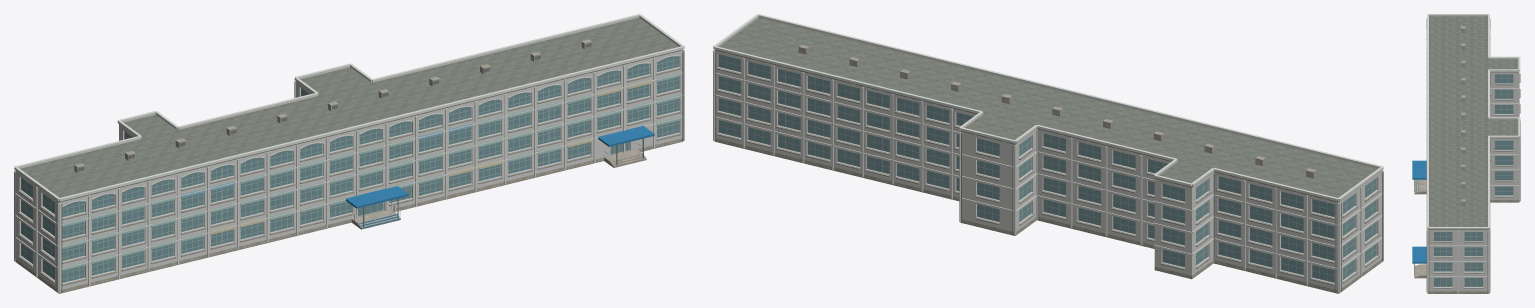
3 renders of one model, left to right at view 1: azimuth 30°, elevation 25°; view 2: azimuth 150°, elevation 25°; view 3: azimuth 270°, elevation 25°, orthographic. The views are drawn at different scales.
Parts seen in each view (by area): view 1: main__roof, main__wall, main__glass, main__trim, main__frame, main__sill, main__mint, main__stone, main__blue, main__sideglass, main__steel, main__cream; view 2: main__wall, main__roof, main__sideglass, main__trim, main__frame, main__sill, main__stone, main__steel; view 3: main__roof, main__wall, main__sideglass, main__trim, main__frame, main__sill, main__stone, main__blue, main__steel, main__stair-front, main__threshold-front, main__stair-east (+1 smaller).
Boxes of the visible parts, x1,y1,x2,y2 form: main__roof: (16,17,682,202); main__wall: (15,50,682,289); main__glass: (62,56,679,282); main__trim: (14,14,684,293); main__frame: (21,56,679,283); main__sill: (18,68,681,285); main__mint: (62,72,680,270); main__stone: (15,39,683,293); main__blue: (345,126,654,228); main__sideglass: (21,88,309,279); main__steel: (14,43,683,291); main__cream: (210,80,651,234); main__wall: (715,50,1382,289); main__roof: (715,17,1381,202); main__sideglass: (718,54,1376,282); main__trim: (713,14,1383,293); main__frame: (718,54,1376,282); main__sill: (716,68,1379,285); main__stone: (714,44,1382,293); main__steel: (714,50,1383,291); main__roof: (1428,16,1518,229); main__wall: (1428,72,1519,291); main__sideglass: (1434,74,1513,286); main__trim: (1414,14,1520,293); main__frame: (1422,74,1513,286); main__sill: (1426,30,1520,288); main__stone: (1428,26,1519,293); main__blue: (1412,160,1426,263); main__steel: (1414,18,1520,292); main__stair-front: (1414,179,1420,194); main__threshold-front: (1421,179,1426,194); main__stair-east: (1414,264,1420,278).
Bounding box in the file's own units: 99 × 14.92 × 21.16.
13 materials, 5 textured.
